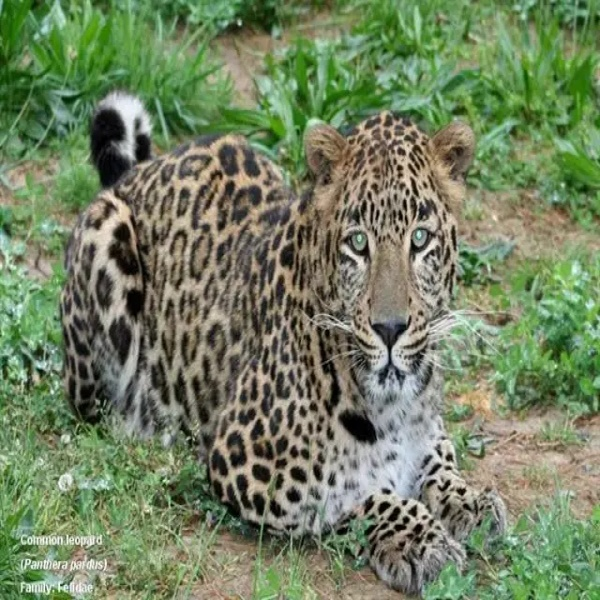Leopard: (59, 84, 521, 596)
